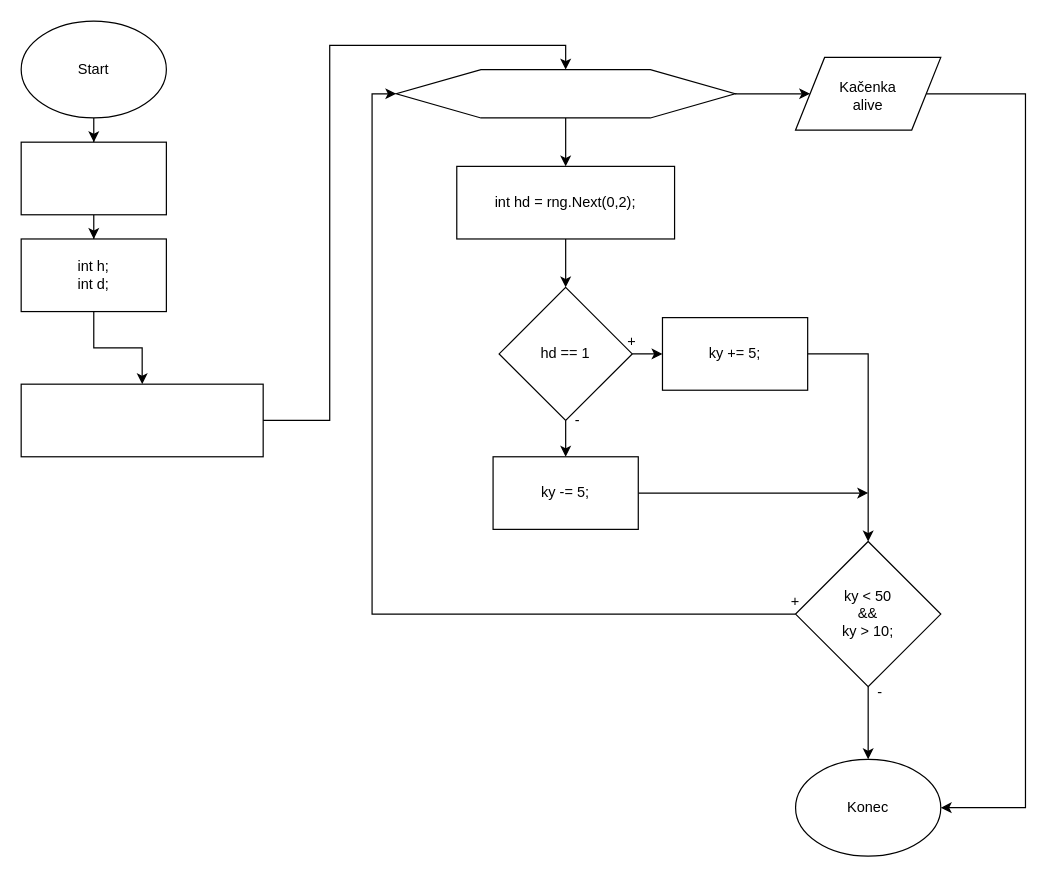
Image size: 1056x877. Some labels were removed from this diagram. The shapes that lost their labels are listed below. From the top down, each one's centre as x and y in pixels, then its label:
At point 565,93: "int i = 0; i < 10; i++".
At point 93,178: "int ky;".
At point 141,420: "Random rng = new Random;".
